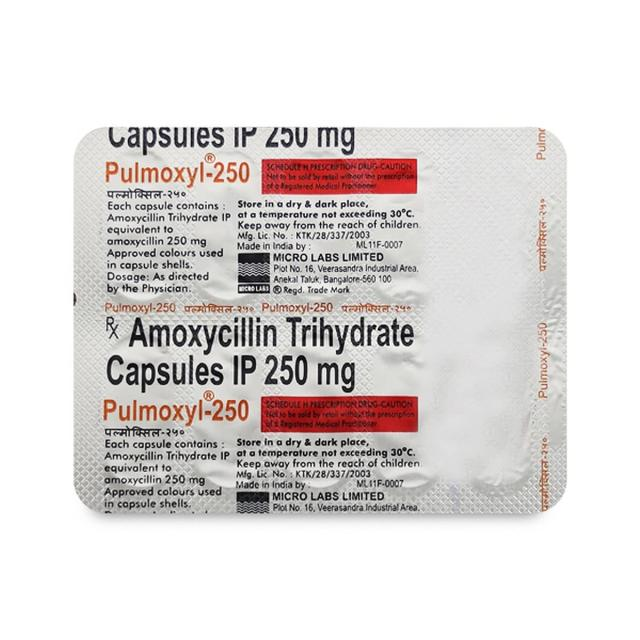Medicine-name: (103, 315, 427, 394)
